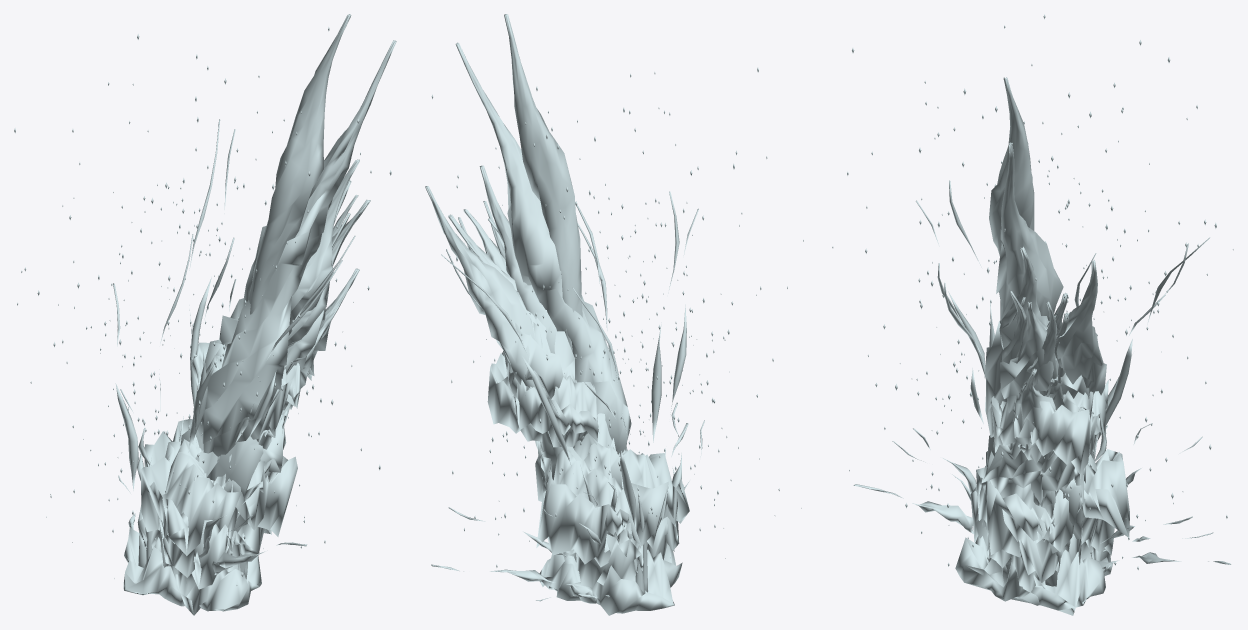
The model's file is lean-peak.glb.
3 renders of one model, left to right at view 1: azimuth 30°, elevation 25°; view 2: azimuth 150°, elevation 25°; view 3: azimuth 270°, elevation 25°, orthographic. The views are drawn at different scales.
Parts seen in each view (by area): view 1: Shell water / deforming core, jets and drops; view 2: Shell water / deforming core, jets and drops; view 3: Shell water / deforming core, jets and drops.
Part boxes in pixels (x1=…): Shell water / deforming core, jets and drops: x1=14, y1=14, x2=396, y2=615; Shell water / deforming core, jets and drops: x1=425, y1=14, x2=803, y2=615; Shell water / deforming core, jets and drops: x1=832, y1=14, x2=1233, y2=615.
Bounding box in the file's own units: 0.6753 × 0.9922 × 0.6288.
